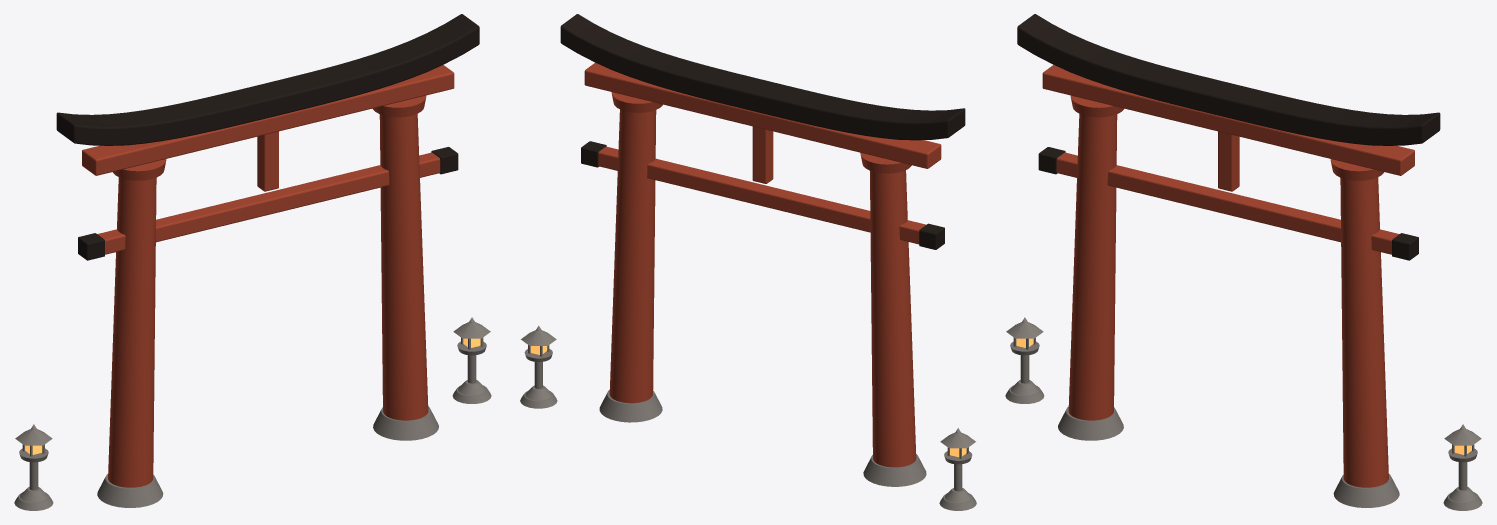
The model's file is torii.glb.
The picture shows the model from 3 angles, left to right: view 1: azimuth 30°, elevation 25°; view 2: azimuth 150°, elevation 25°; view 3: azimuth 330°, elevation 25°; orthographic projection. The views are drawn at different scales.
Visible parts, largest first — view 1: Kasagi, Pillar_L, Pillar_R, Shimaki, Nuki, Base_L, Base_R, Gakuzuka, Daiwa_L, Daiwa_R, NukiEnd_L; view 2: Kasagi, Pillar_L, Pillar_R, Shimaki, Nuki, Base_L, Base_R, Gakuzuka, Daiwa_L, Daiwa_R, NukiEnd_L; view 3: Kasagi, Pillar_R, Pillar_L, Shimaki, Nuki, Base_R, Base_L, Gakuzuka, Daiwa_R, Daiwa_L, NukiEnd_R.
Part boxes in pixels (x1,y1,x2,y2): Kasagi: (56,14,479,145); Pillar_L: (108,177,156,487); Pillar_R: (379,114,428,420); Shimaki: (82,65,454,175); Nuki: (97,152,440,254); Base_L: (97,474,163,507); Base_R: (373,406,438,440); Gakuzuka: (257,131,278,191); Daiwa_L: (112,159,166,180); Daiwa_R: (373,95,426,117); NukiEnd_L: (78,233,104,260); Kasagi: (560,14,965,140); Pillar_L: (870,170,916,467); Pillar_R: (609,109,656,403); Shimaki: (584,62,941,168); Nuki: (598,146,926,244); Base_L: (863,454,926,486); Base_R: (599,389,662,422); Gakuzuka: (752,126,773,183); Daiwa_L: (860,152,911,173); Daiwa_R: (611,92,662,112); NukiEnd_L: (919,223,944,249); Kasagi: (1017,14,1440,145); Pillar_R: (1340,177,1388,487); Pillar_L: (1068,114,1117,420); Shimaki: (1042,65,1414,175); Nuki: (1056,152,1399,254); Base_R: (1333,474,1399,507); Base_L: (1058,406,1123,440); Gakuzuka: (1218,131,1239,191); Daiwa_R: (1330,159,1384,180); Daiwa_L: (1070,95,1123,117); NukiEnd_R: (1392,233,1418,260).
Bounding box in the file's own units: 16.14 × 12.81 × 2.46.
